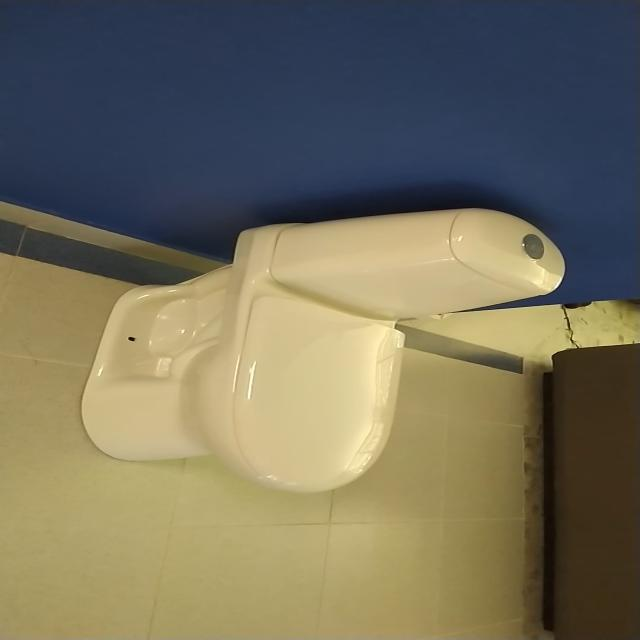toilet: (80, 206, 566, 494)
